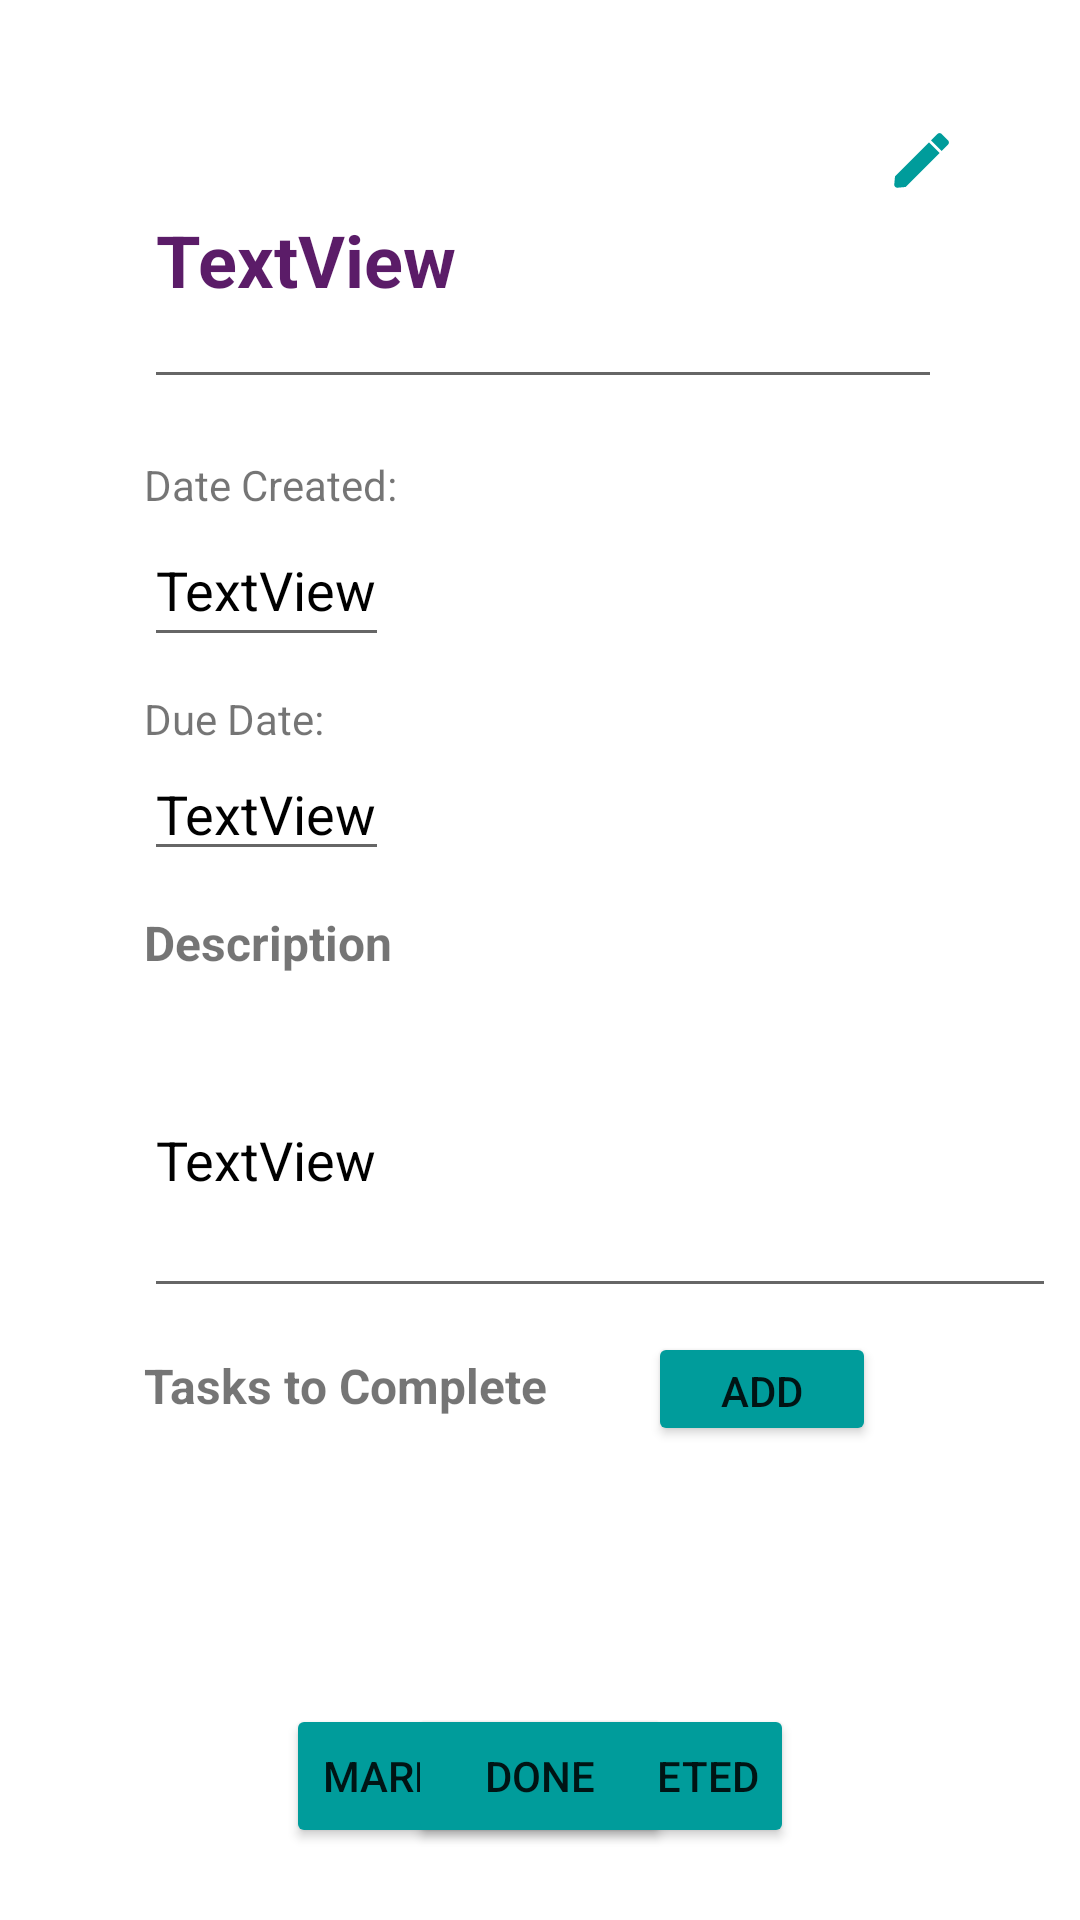

Where icons sit on this 1080w x 1920h app screen, as (x1, y1, x2, y2):
edit: (894, 133, 949, 188)
